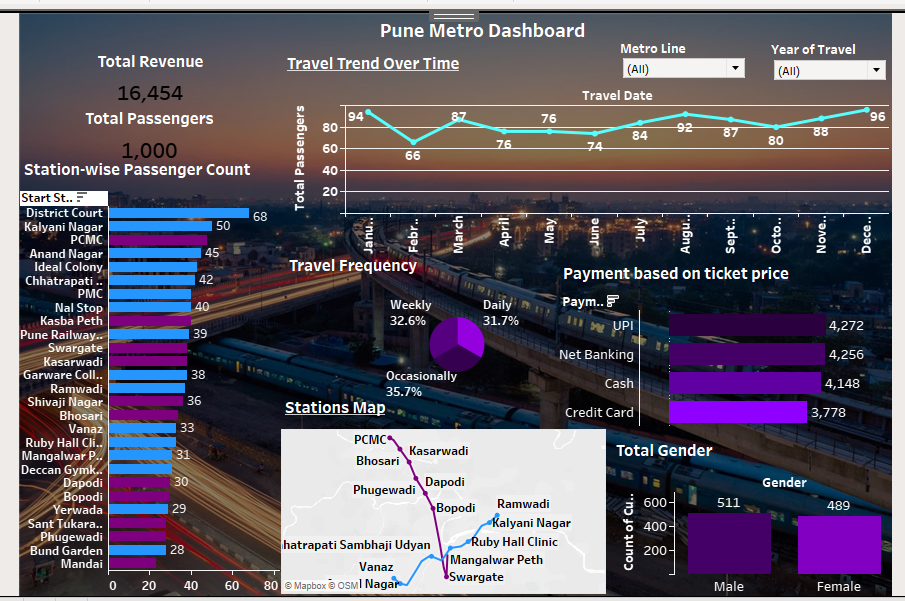

The dashboard page shown, as its layout file describes it:
{"tool":"tableau","page":{"name":"PUNE METRO Dashboard","canvas":[1020,1120],"ordinal":0},"visuals":[{"type":"text","box":[432,11,313,29]},{"type":"filter","title":"Station-wise Passenger Count","param":"[federated.01pf3t91txcgmg13jfi8i00wkp3z].[none:Calculation_2039849217144229893:n","box":[726,35,128,39]},{"type":"filter","title":"Station-wise Passenger Count","param":"[federated.01pf3t91txcgmg13jfi8i00wkp3z].[yr:Travel_Date:ok]","box":[877,36,118,41]},{"type":"worksheet","title":"Total Revenue","mark":"Automatic","box":[127,42,259,71]},{"type":"worksheet","title":"Travel Trend Over Time","mark":"Line","rows":["Calculation_2039849217138421761"],"cols":["Travel_Date"],"box":[389,44,606,208]},{"type":"worksheet","title":"Total Passengers","mark":"Automatic","box":[127,99,257,67]},{"type":"worksheet","title":"Station-wise Passenger Count","mark":"Automatic","rows":["Start_Station"],"cols":["Calculation_2039849217138421761"],"box":[126,150,260,440]},{"type":"worksheet","title":"Travel Frequency","mark":"Pie","box":[391,246,344,152]},{"type":"worksheet","title":"Payment based on ticket price","mark":"Automatic","rows":["Payment_Method"],"cols":["Ticket_Price"],"box":[665,254,331,168]},{"type":"worksheet","title":"Stations Map","mark":"Line","rows":["Latitude"],"cols":["Longitude"],"box":[387,388,325,202]},{"type":"worksheet","title":"count of gender","mark":"Automatic","rows":["Customer_ID"],"cols":["Gender"],"box":[718,431,282,161]}]}

Visuals, with their boxes on the page's 1020x1120 design canvas (x1, y1, x2, y2). These are canvas units, not pixel positions in the 905x601 screenshot, which may show the page scaled, cropped or inside an application window:
text: (432,11,745,40)
"Station-wise Passenger Count" filter: (726,35,854,74)
"Station-wise Passenger Count" filter: (877,36,995,77)
"Total Revenue" worksheet: (127,42,386,113)
"Travel Trend Over Time" worksheet (Line marks): (389,44,995,252)
"Total Passengers" worksheet: (127,99,384,166)
"Station-wise Passenger Count" worksheet: (126,150,386,590)
"Travel Frequency" worksheet (Pie marks): (391,246,735,398)
"Payment based on ticket price" worksheet: (665,254,996,422)
"Stations Map" worksheet (Line marks): (387,388,712,590)
"count of gender" worksheet: (718,431,1000,592)
